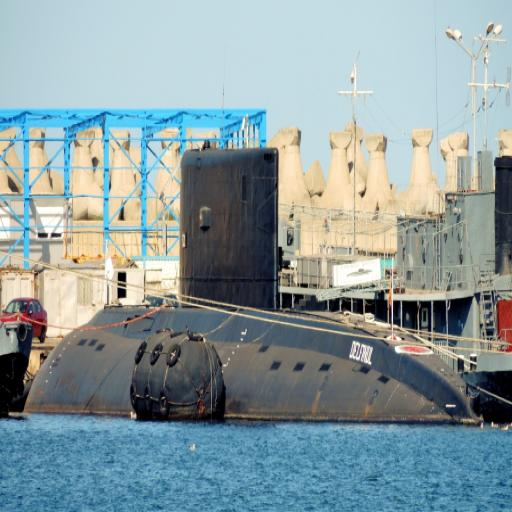submarine: (24, 148, 486, 425)
